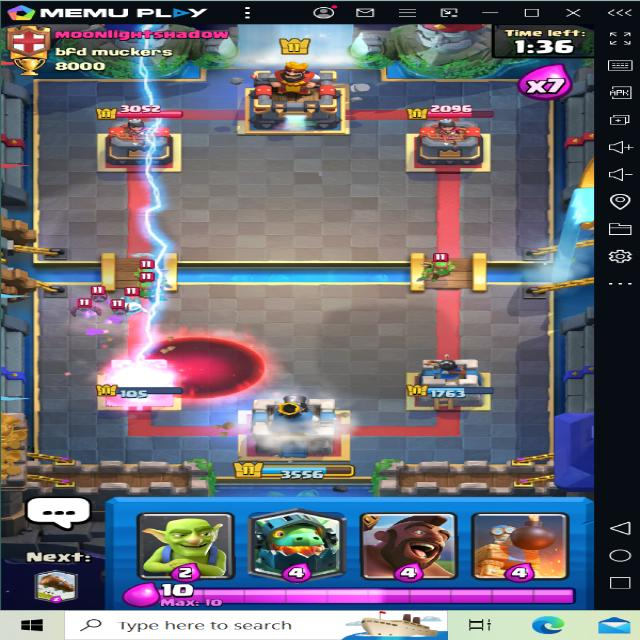bats: (80, 286, 114, 308), (97, 297, 132, 317), (70, 297, 97, 317)
lightning: (100, 20, 192, 408)
spear-goblin: (131, 255, 165, 284), (420, 252, 455, 280), (136, 282, 172, 301)
void: (136, 332, 272, 400)
